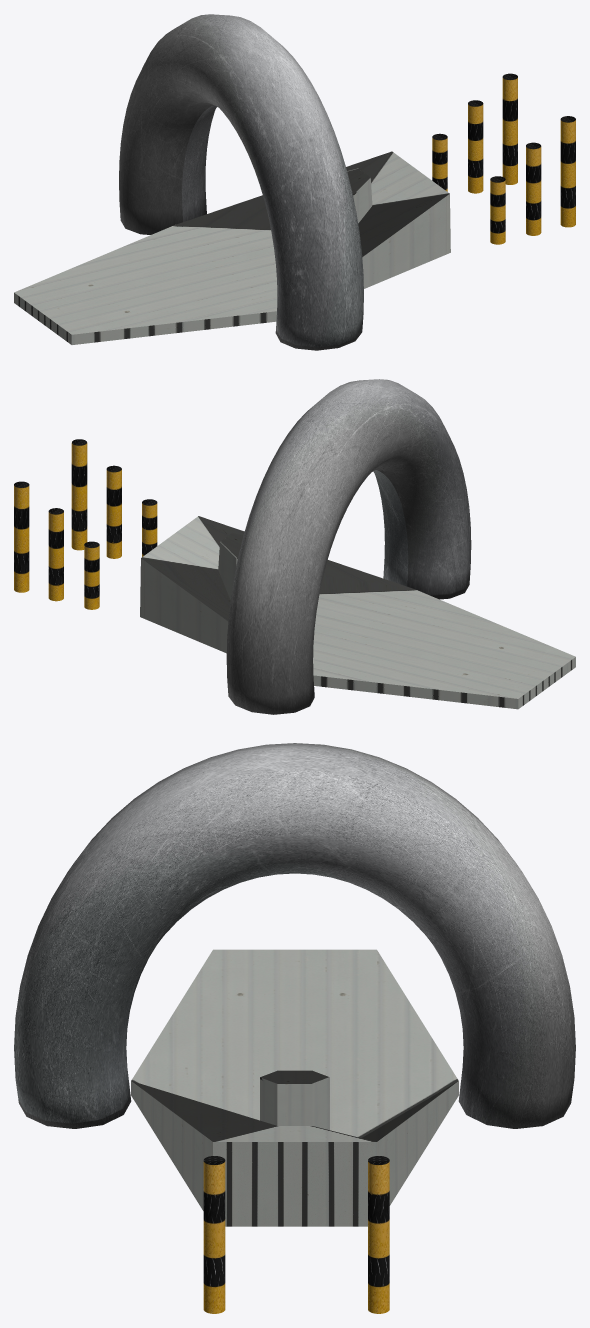
File: launchPlatform.fbx
3 views of the same model, one above another, from view 1: azimuth 30°, elevation 25°; view 2: azimuth 150°, elevation 25°; view 3: azimuth 270°, elevation 25° (orthographic). The views are drawn at different scales.
Visible parts, largest first — view 1: Torus, Cylinder, Cylinder.001; view 2: Torus, Cylinder, Cylinder.001; view 3: Torus, Cylinder, Cylinder.001.
Boxes of the visible parts, bbox=[...] form: Torus: bbox=[119, 14, 363, 350]; Cylinder: bbox=[14, 151, 450, 344]; Cylinder.001: bbox=[432, 73, 575, 244]; Torus: bbox=[226, 379, 471, 714]; Cylinder: bbox=[140, 516, 575, 709]; Cylinder.001: bbox=[14, 439, 157, 609]; Torus: bbox=[14, 743, 575, 1128]; Cylinder: bbox=[131, 949, 458, 1226]; Cylinder.001: bbox=[203, 1156, 389, 1313].
Size of the model in its own units: 1001 by 476 by 682.
Materials: 3 (3 with a texture image).
